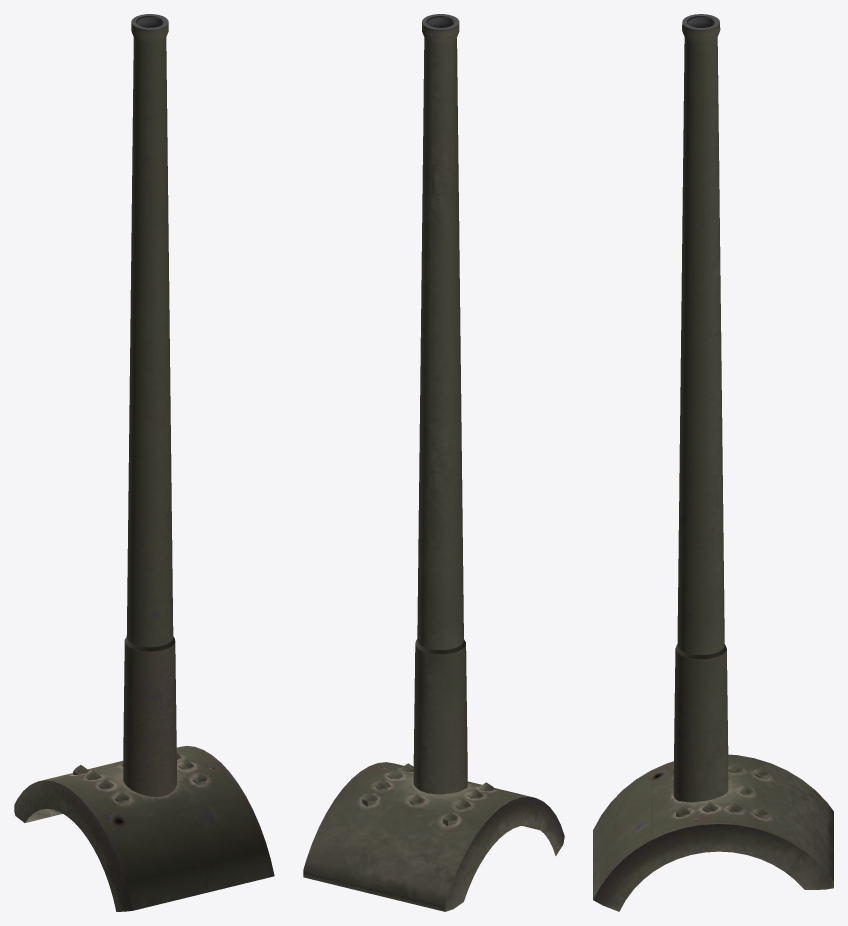
Rendered from Gun_08.glb.
3 renders of one model, left to right at view 1: azimuth 30°, elevation 25°; view 2: azimuth 150°, elevation 25°; view 3: azimuth 270°, elevation 25°, orthographic.
Parts seen in each view (by area): view 1: set_0_group_0; view 2: set_0_group_0; view 3: set_0_group_0.
Part boxes in pixels (x1,y1,x2,y2): set_0_group_0: (14,14,274,911); set_0_group_0: (303,14,564,911); set_0_group_0: (593,14,833,911).
Bounding box in the file's own units: 0.6845 × 3.69 × 0.9444.
Materials: 1 (1 with a texture image).
